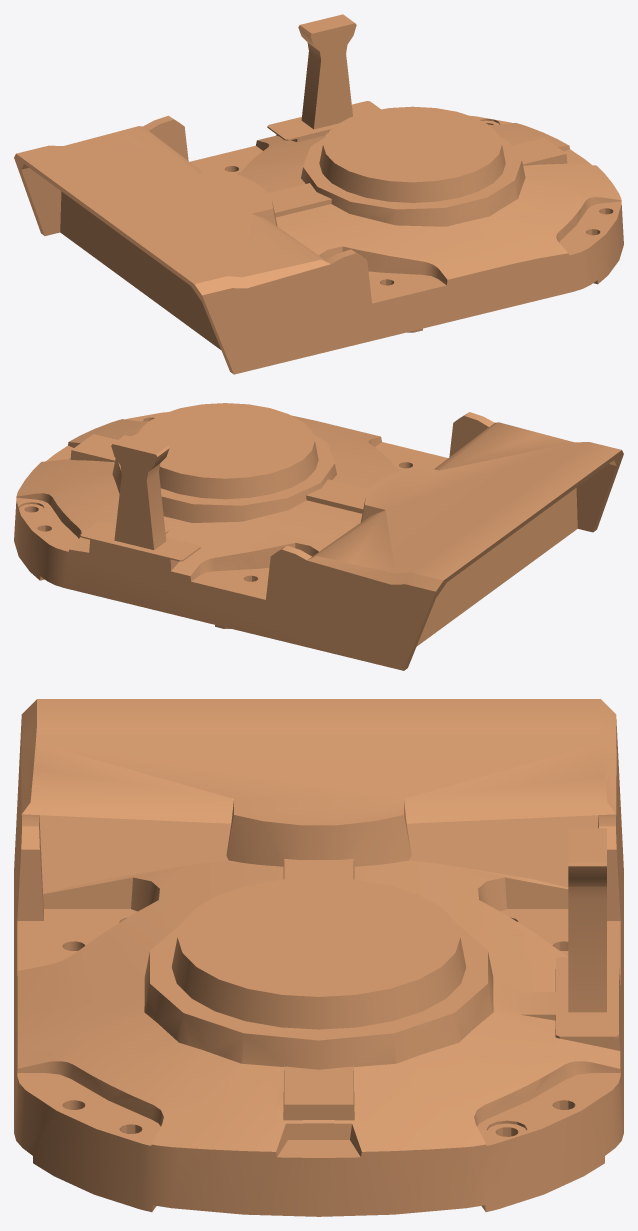
3 renders of one model, top to bottom at view 1: azimuth 30°, elevation 25°; view 2: azimuth 150°, elevation 25°; view 3: azimuth 270°, elevation 25°, orthographic. The views are drawn at different scales.
Parts seen in each view (by area): view 1: Base_Link; view 2: Base_Link; view 3: Base_Link.
Part boxes in pixels (left/top/right/bottom): Base_Link: left=14, top=14, right=623, bottom=374; Base_Link: left=14, top=403, right=623, bottom=670; Base_Link: left=14, top=699, right=623, bottom=1216.
Bounding box in the file's own units: 1.14 × 0.79 × 0.35.
